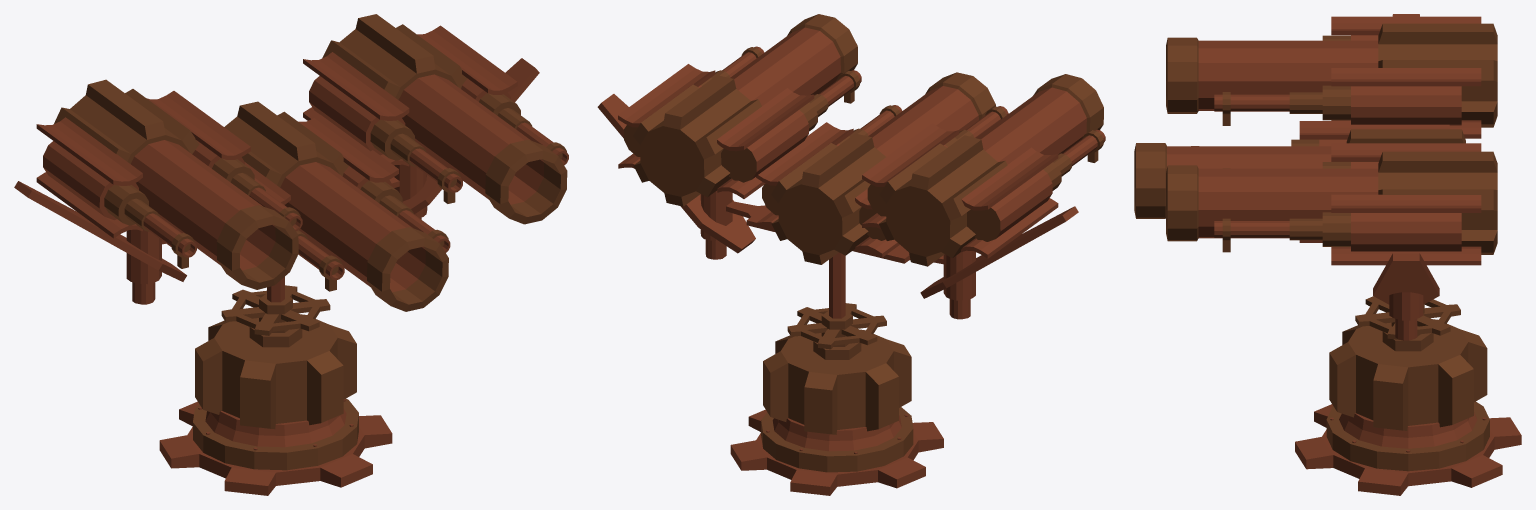
File: Cannon_7.glb
3 views of the same model, side by side, from view 1: azimuth 30°, elevation 25°; view 2: azimuth 150°, elevation 25°; view 3: azimuth 270°, elevation 25° (orthographic). The views are drawn at different scales.
Parts seen in each view (by area): view 1: Cannon_7_Gun, Cannon_7_Base, Cannon_7_Mid; view 2: Cannon_7_Gun, Cannon_7_Base, Cannon_7_Mid; view 3: Cannon_7_Gun, Cannon_7_Base, Cannon_7_Mid.
Boxes of the visible parts, x1,y1,x2,y2 form: Cannon_7_Gun: (14,14,568,311); Cannon_7_Base: (159,314,392,495); Cannon_7_Mid: (221,277,330,347); Cannon_7_Gun: (597,14,1105,319); Cannon_7_Base: (730,329,943,495); Cannon_7_Mid: (787,252,886,359); Cannon_7_Gun: (1134,14,1497,340); Cannon_7_Base: (1295,319,1521,495); Cannon_7_Mid: (1355,296,1460,351).
Size of the model in its own units: 3.49 by 2.4 by 2.35.
